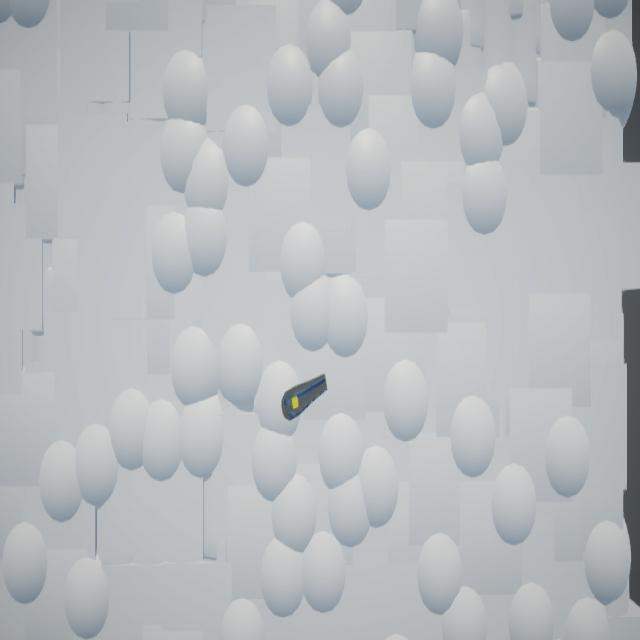handle_knife: (282, 374, 329, 423)
